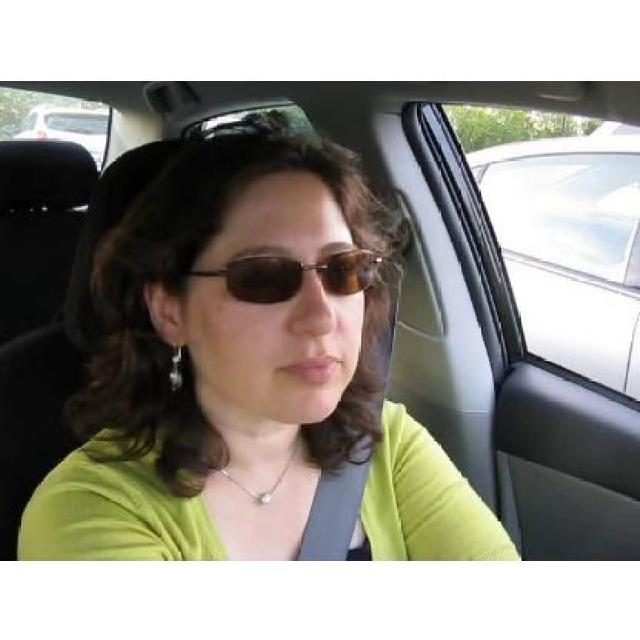attentif: (146, 128, 362, 426)
